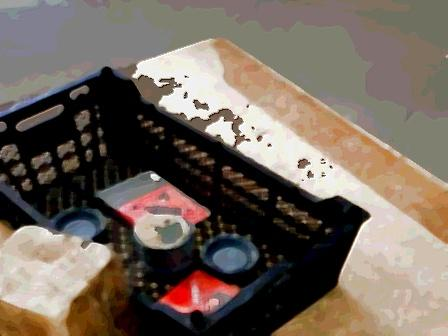flammable: (116, 186, 209, 239), (160, 269, 242, 326)
